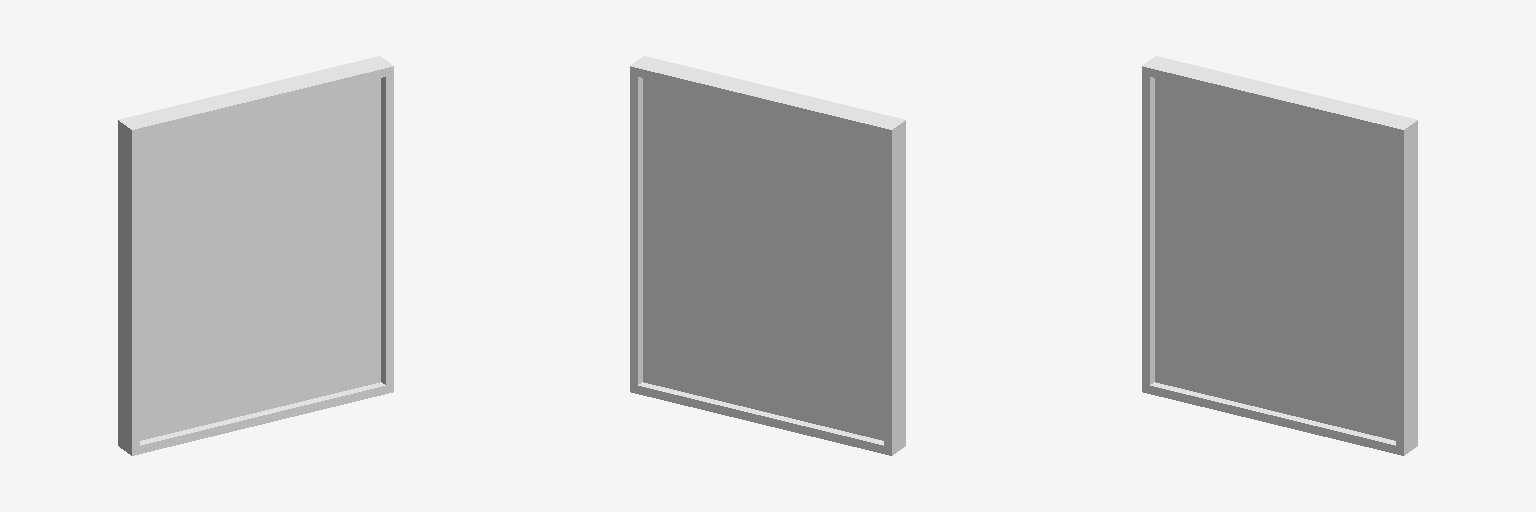
The model's file is sl_BuyScreen.obj.
The picture shows the model from 3 angles: view 1: azimuth 30°, elevation 25°; view 2: azimuth 150°, elevation 25°; view 3: azimuth 330°, elevation 25°; orthographic projection.
Size of the model in its own units: 32 by 38 by 3.